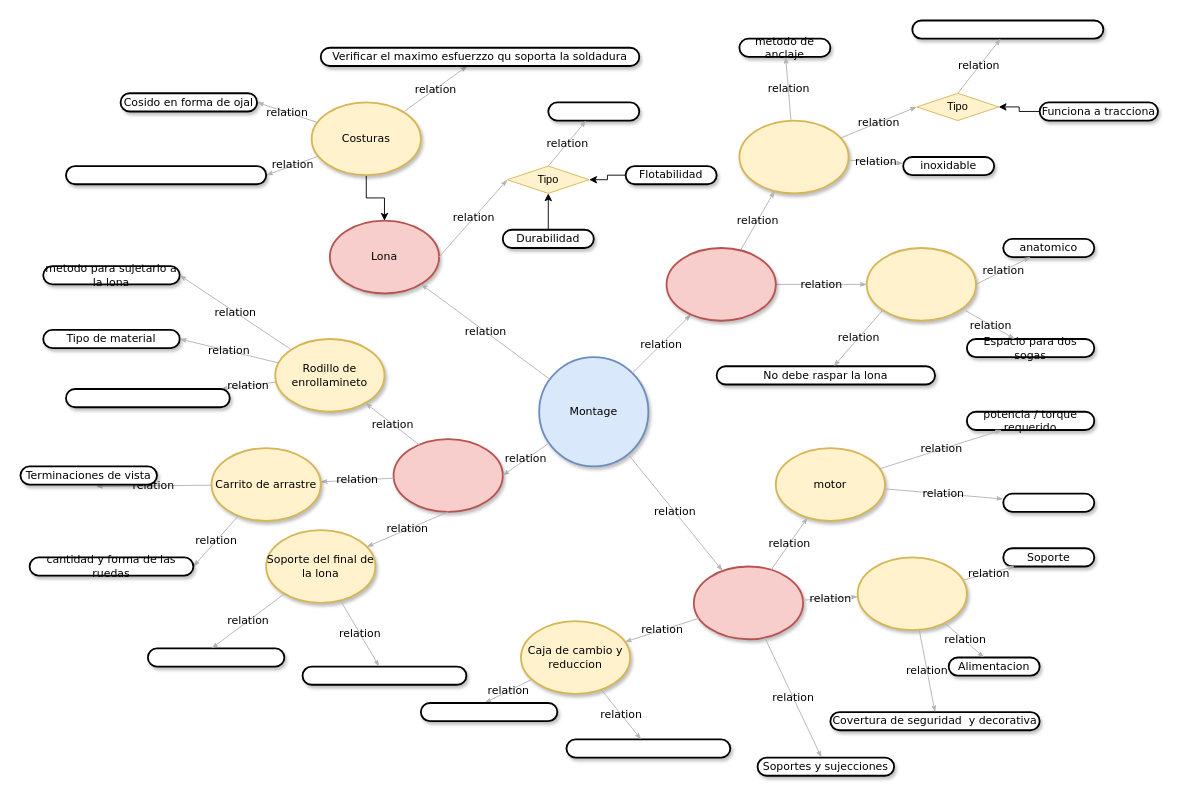
Some shapes in this 1179 by 798 pixel diagram are drawn without their labels. The centre of each missing label's shape, as x and y in pixels:
"acciona dos mecanismos diferentes" goes at (x=648, y=749).
"Auxiliares" goes at (x=913, y=594).
"Calculo y dimensionamiento" goes at (x=216, y=658).
"Debe tener un refurzo para evitar el roce" goes at (x=166, y=176).
"Dimensionamiento de diametro" goes at (x=148, y=399).
"Diseño del perfit" goes at (x=922, y=285).
"Funcniona al corte" goes at (x=1008, y=30).
"pocas piezas" goes at (x=489, y=713).
"Resistencia" goes at (x=594, y=112).
"Rieles" goes at (x=722, y=285).
"Seleccion pot" goes at (x=1049, y=504).
"Sistema de impulsion" goes at (x=749, y=603).
"Soportes" goes at (x=449, y=476).
"Sujeccion al carrito" goes at (x=385, y=677).
"Sujeciones" goes at (x=794, y=158).
